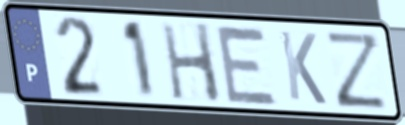1: (121, 19, 157, 100)
2: (52, 14, 106, 98)
E: (211, 22, 281, 109)
H: (157, 20, 225, 106)
K: (276, 27, 329, 108)
Z: (323, 28, 390, 112)
